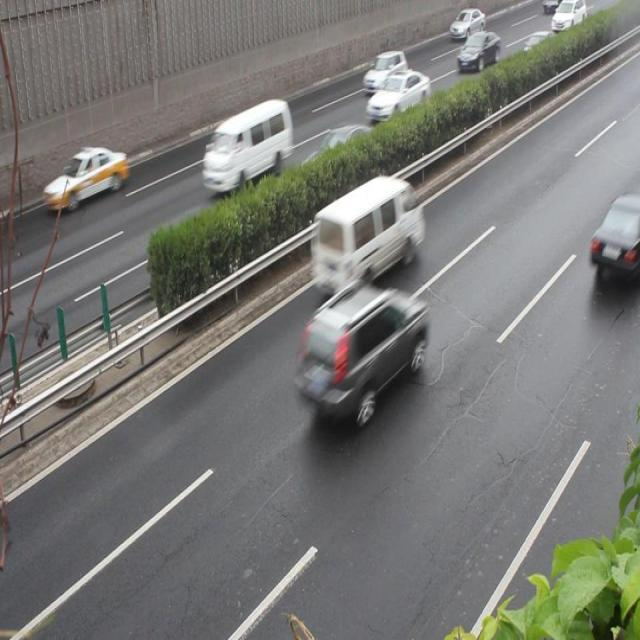car: (299, 280, 428, 420), (43, 147, 128, 212), (303, 126, 379, 184), (590, 192, 640, 276), (367, 72, 430, 125)
truck: (312, 177, 423, 291), (203, 102, 292, 188)
